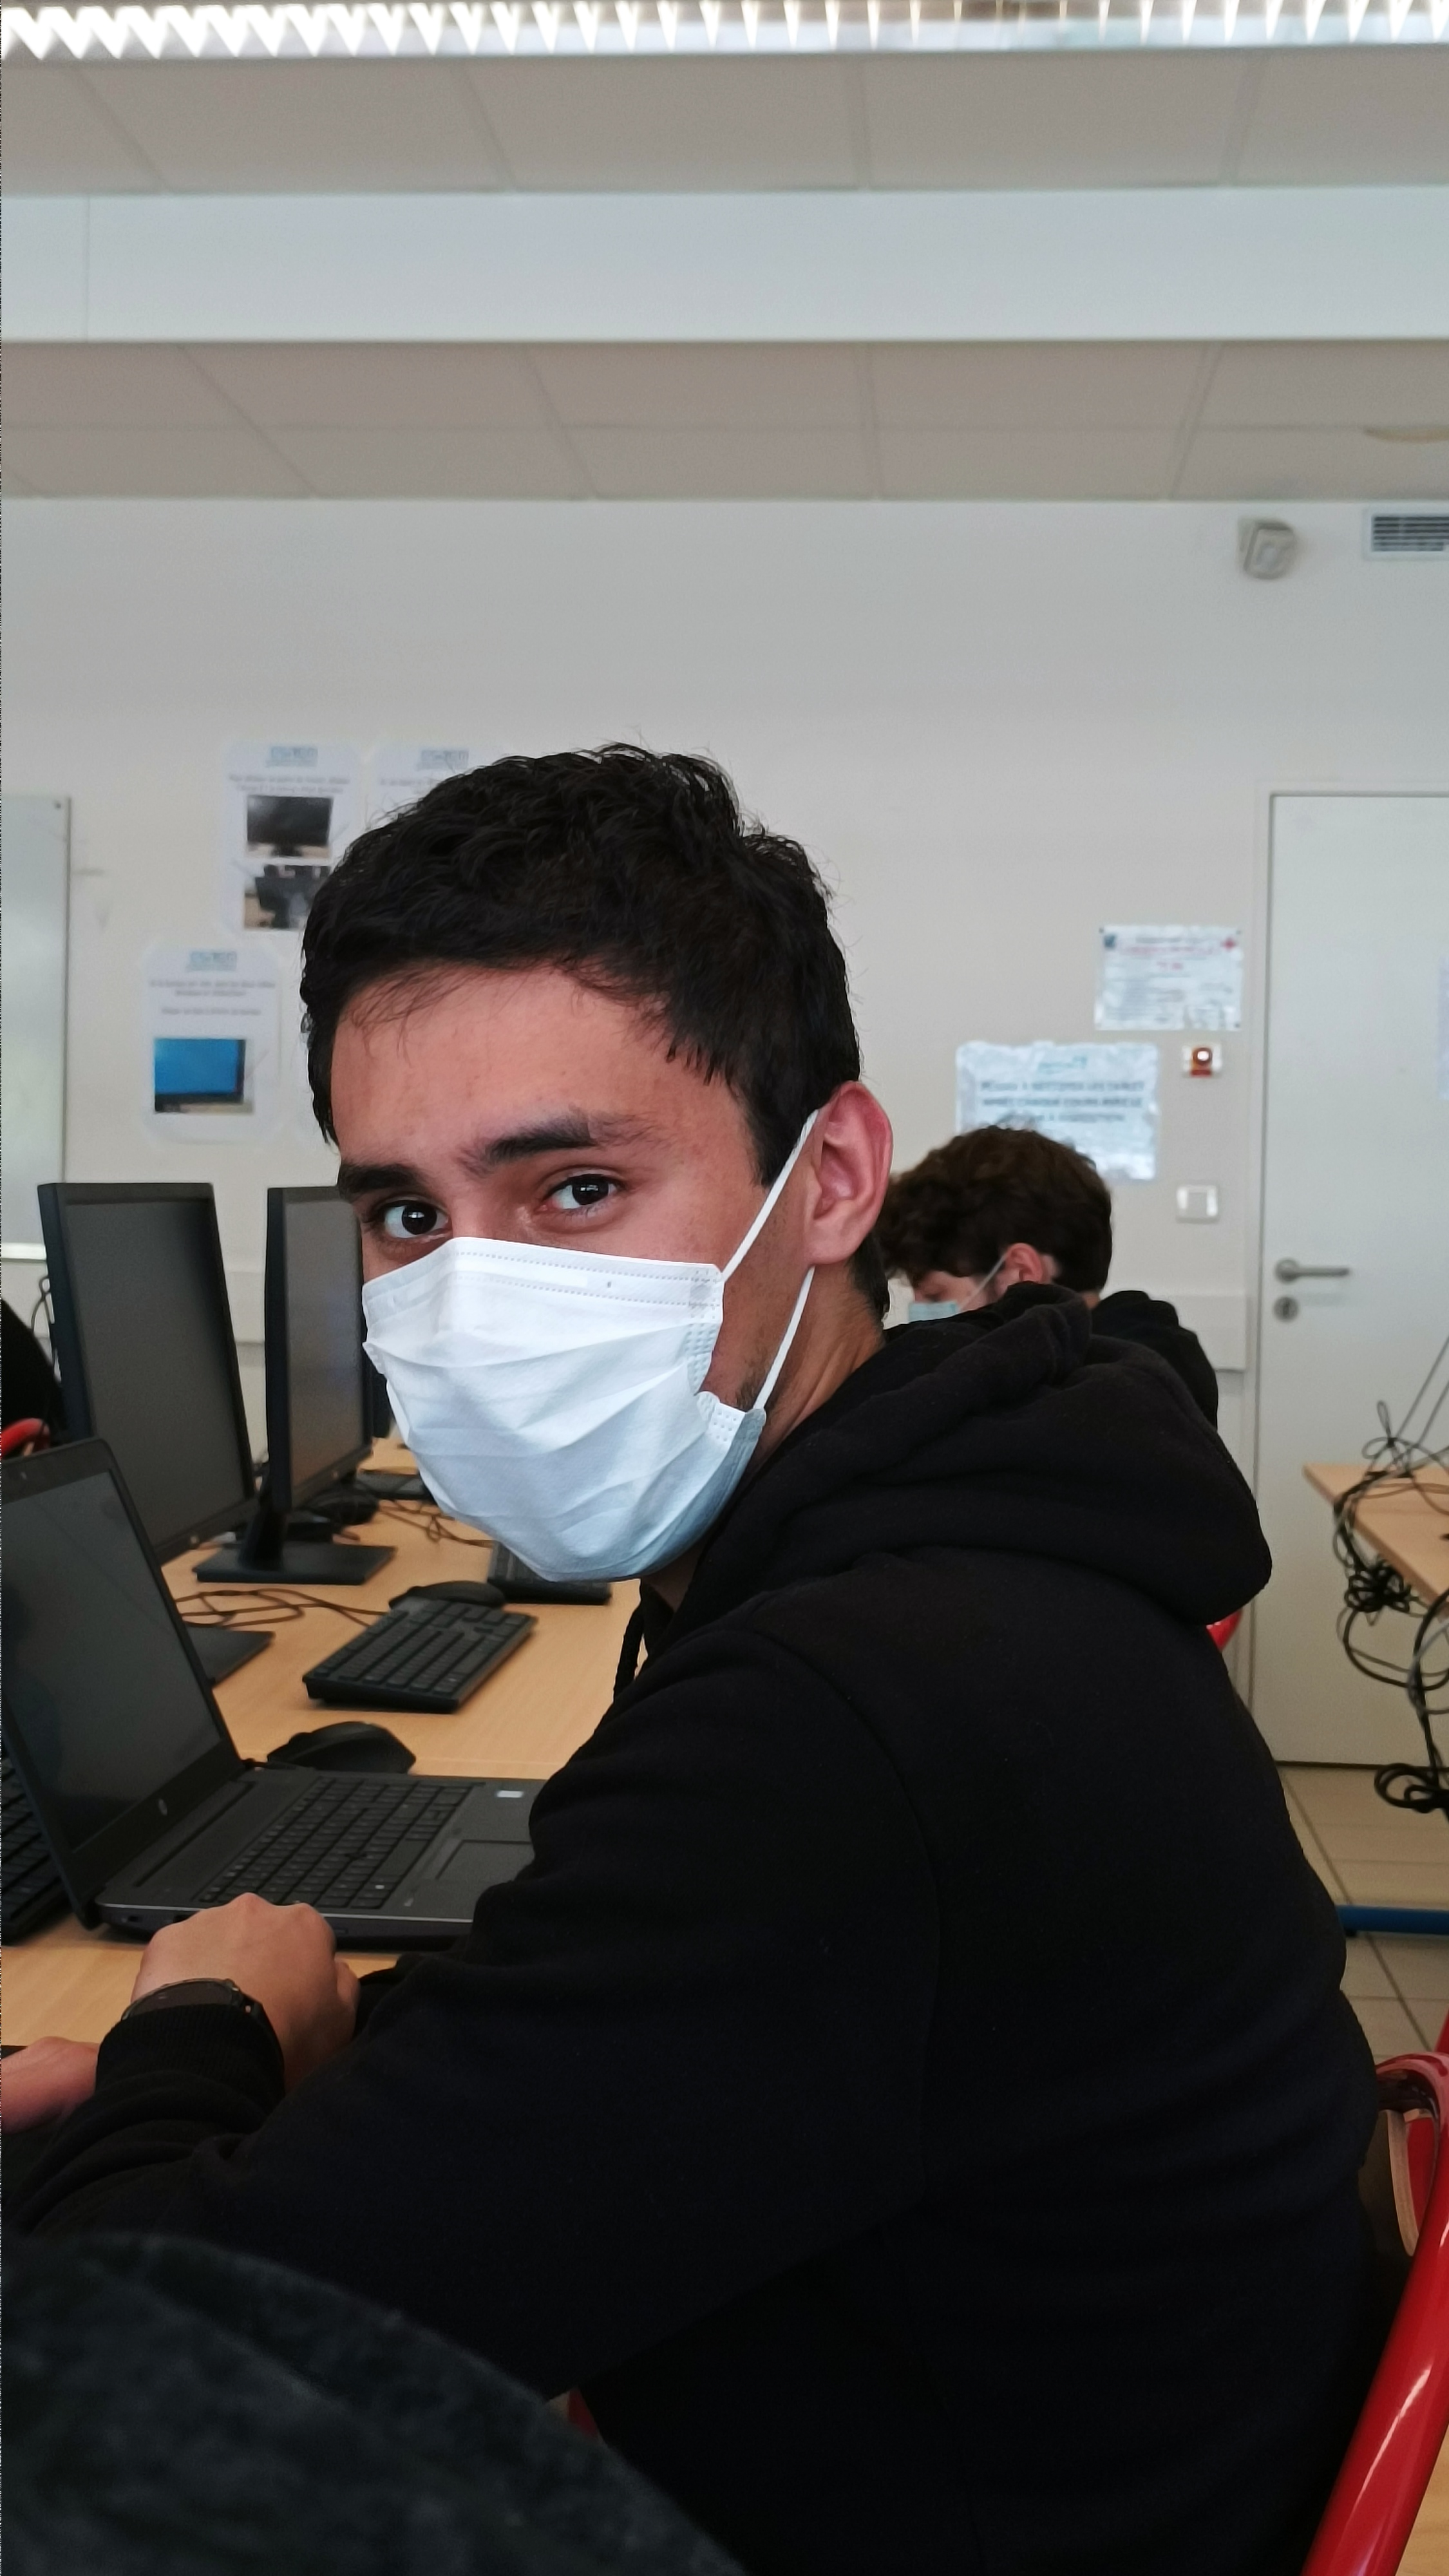with_mask: (357, 1061, 716, 1539)
